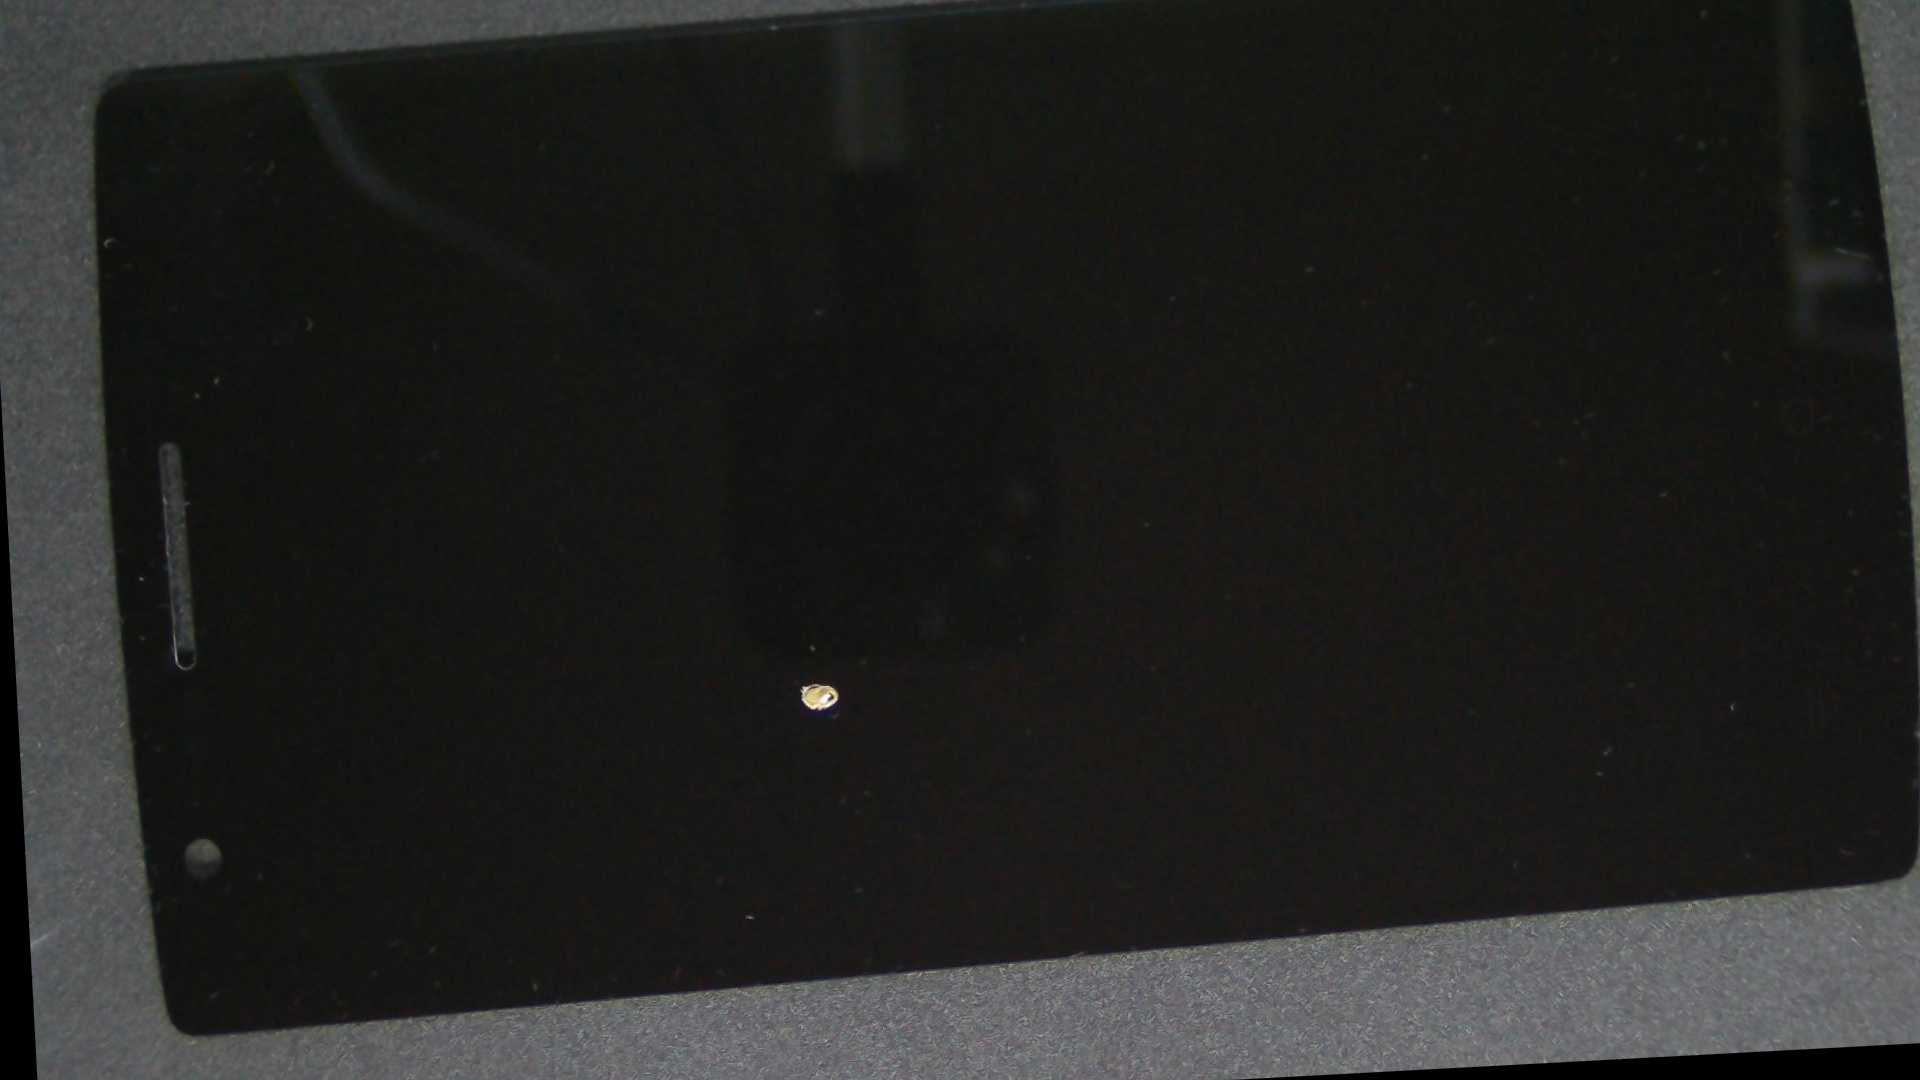oil: (394, 268, 1226, 1080)
